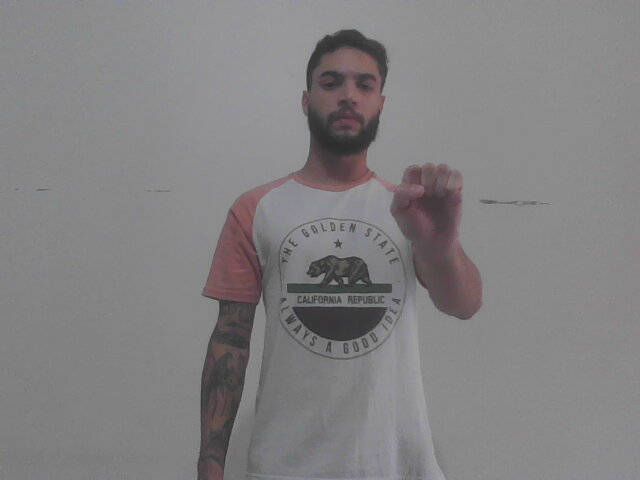s: (390, 160, 464, 246)
